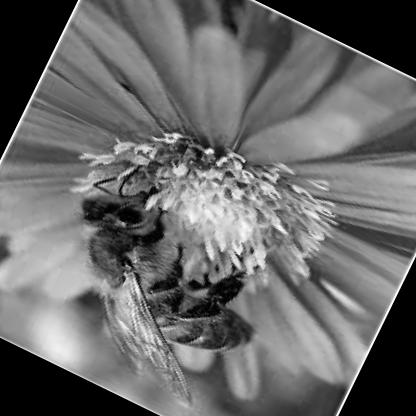other: (12, 164, 300, 415)
